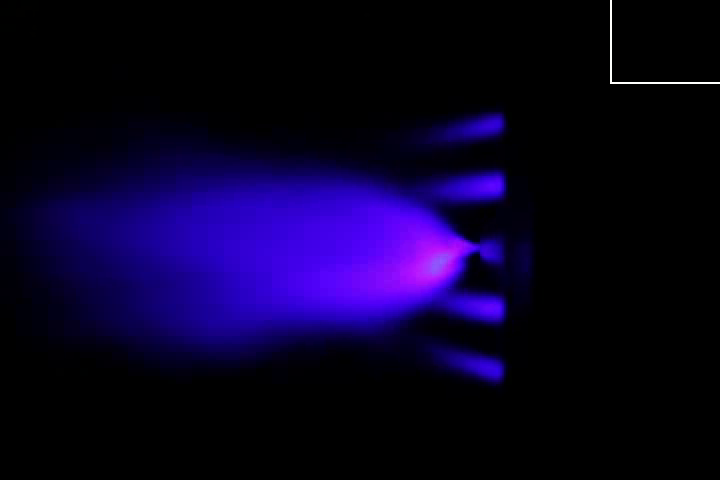burner cap: (479, 235, 507, 268)
pilot flame: (413, 169, 507, 205), (426, 343, 504, 384), (430, 111, 502, 143), (436, 292, 508, 323)
stable: (365, 209, 482, 298)
